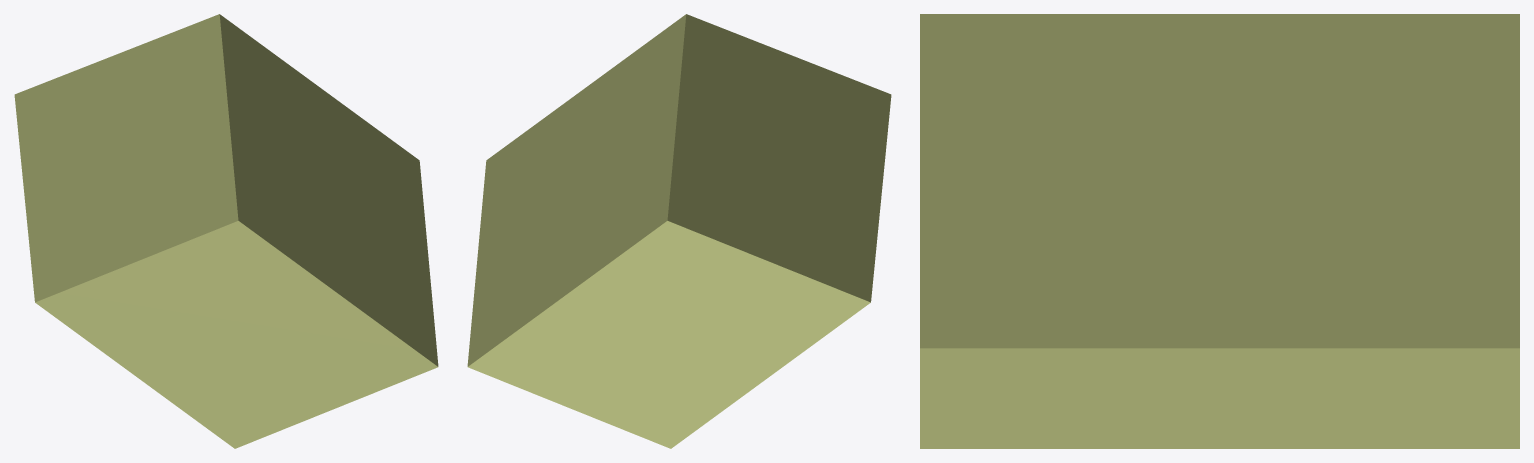
3 views of the same model, side by side, from view 1: azimuth 30°, elevation 25°; view 2: azimuth 150°, elevation 25°; view 3: azimuth 270°, elevation 25° (orthographic). The views are drawn at different scales.
Parts seen in each view (by area): view 1: 0_1_2_0_3_0_1_2_0_2; view 2: 0_1_2_0_3_0_1_2_0_2; view 3: 0_1_2_0_3_0_1_2_0_2.
Part boxes in pixels (<box>): 0_1_2_0_3_0_1_2_0_2: <box>14,14,438,448</box>; 0_1_2_0_3_0_1_2_0_2: <box>467,14,891,448</box>; 0_1_2_0_3_0_1_2_0_2: <box>920,14,1519,448</box>.
Bounding box in the file's own units: 3.88 × 4.03 × 6.
